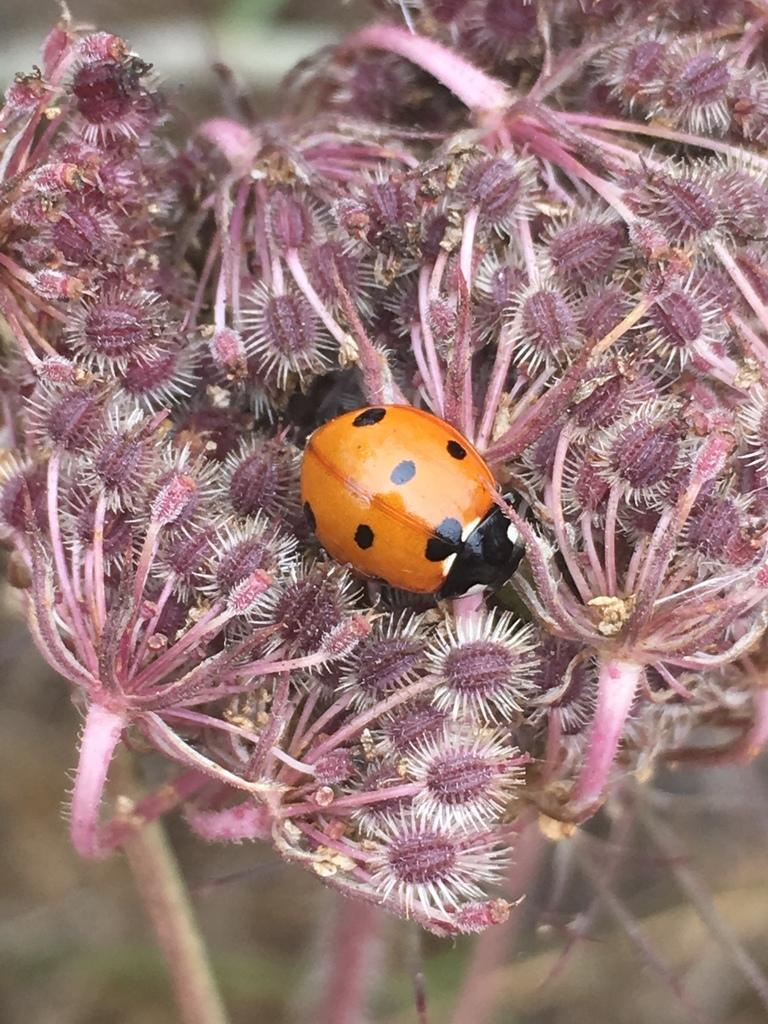ladybug: (299, 401, 534, 616)
